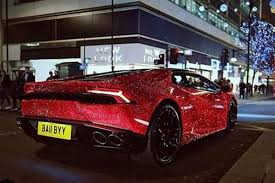Lamborghini: (28, 65, 237, 154)
